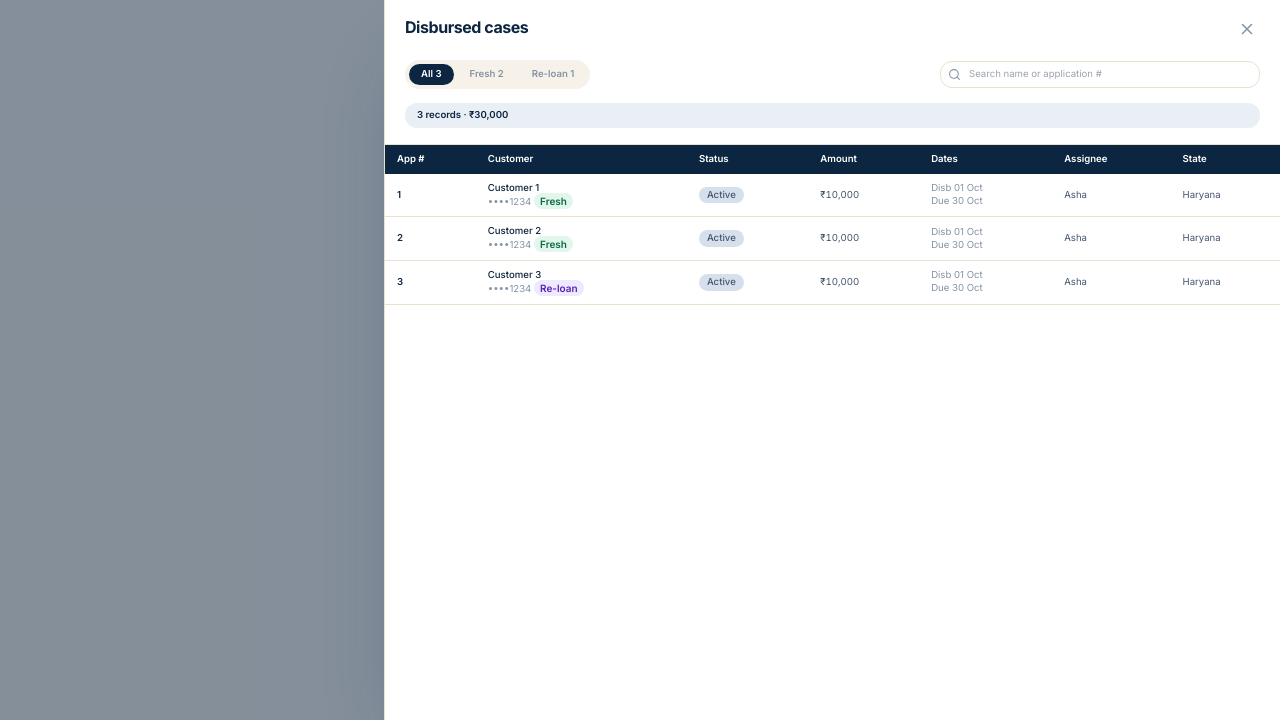
Test: RecordsDrawer › segment pills show counts and refetch with the chosen segment
expect the button "All 3" is shown: met, box x1=409 y1=64 x2=454 y2=85
expect the button "Fresh 2" is shown: met, box x1=458 y1=64 x2=516 y2=85
What coordinates should you click on to do the following:
click the button "Re-loan 1"
I would click on:
 (553, 75)
Its box is x1=520 y1=64 x2=586 y2=85.
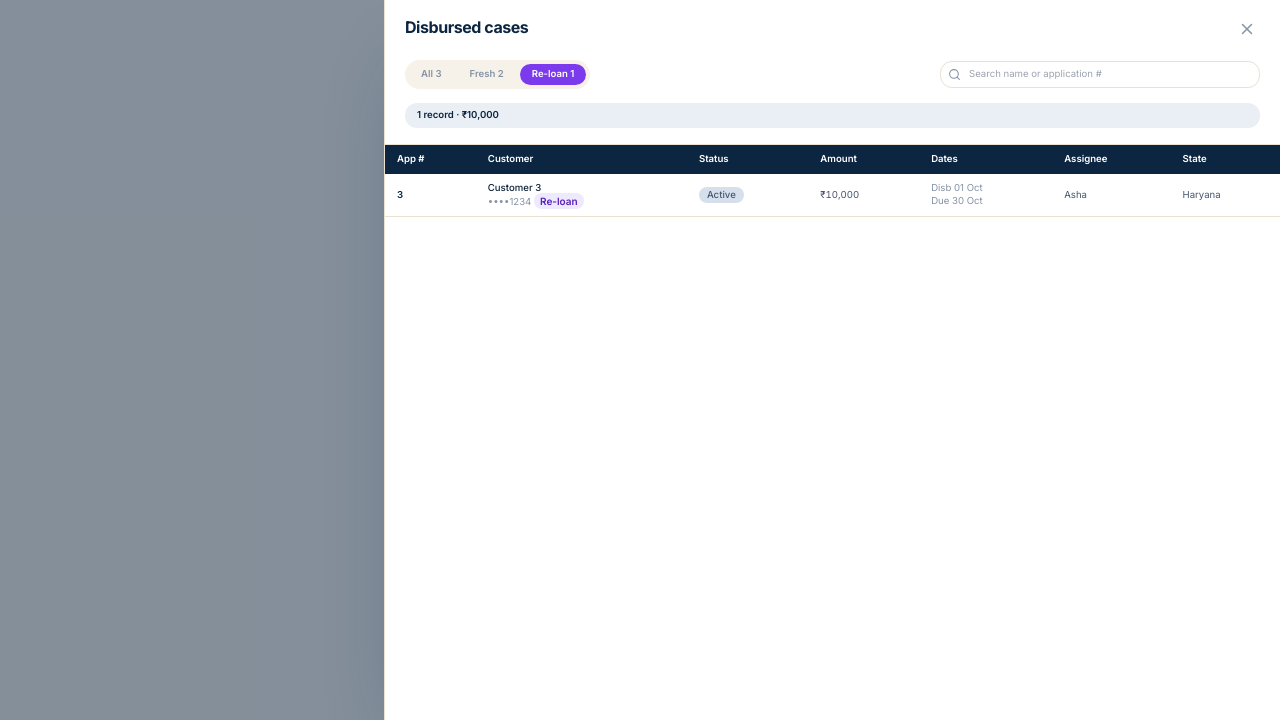
expect the text "Customer 3" is shown: met, box x1=488 y1=182 x2=541 y2=193
expect the text with test id "records-total" reads "1 record · ₹10,000": met, box x1=417 y1=109 x2=499 y2=120
expect the text "Customer 1" is gone: met
